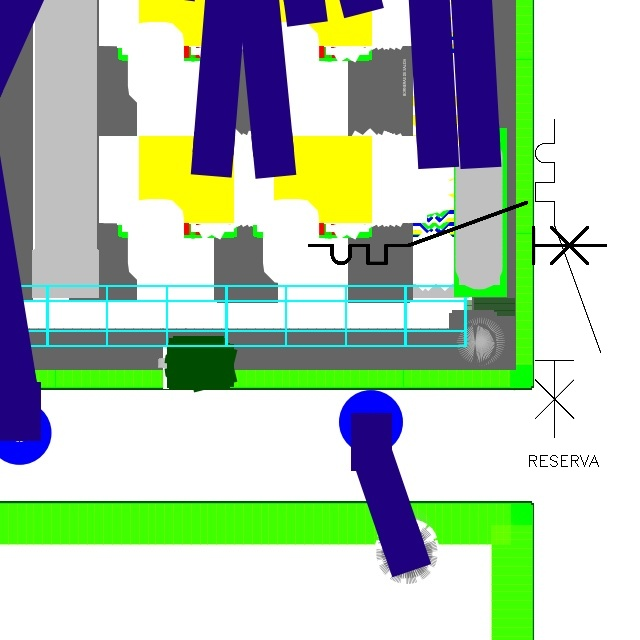interruptor_termomagnetico: (527, 111, 609, 446), (302, 195, 613, 271)
